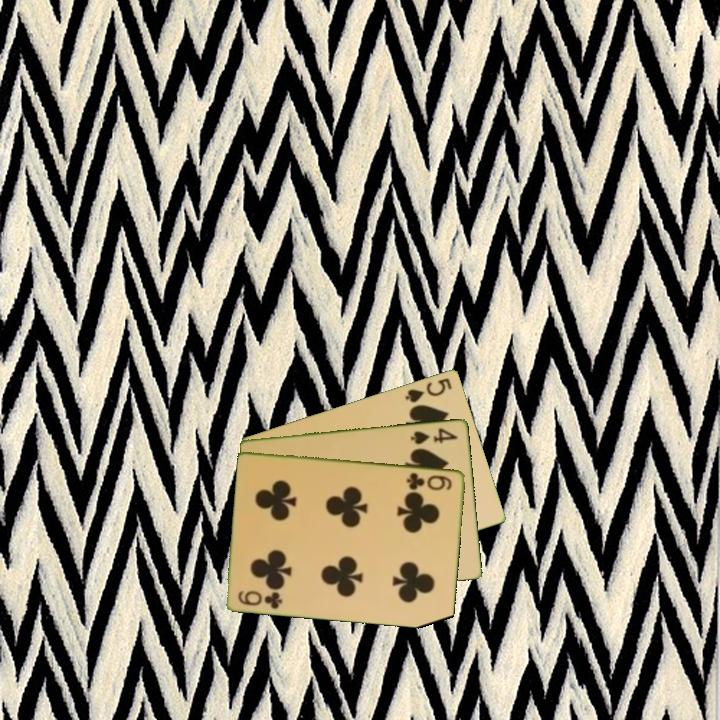4s: (407, 424, 461, 447)
5s: (402, 374, 455, 405)
6c: (403, 469, 455, 493), (235, 587, 285, 611)
